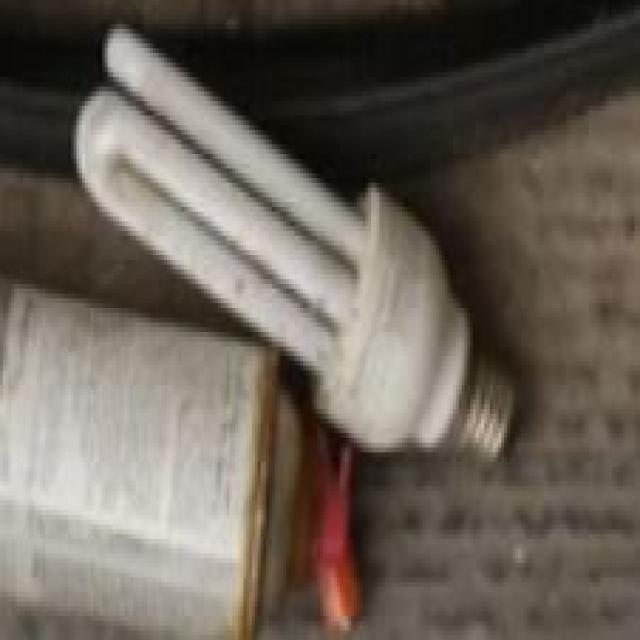electronic: (71, 19, 518, 467), (312, 178, 518, 467), (308, 433, 362, 635), (442, 342, 518, 466)
